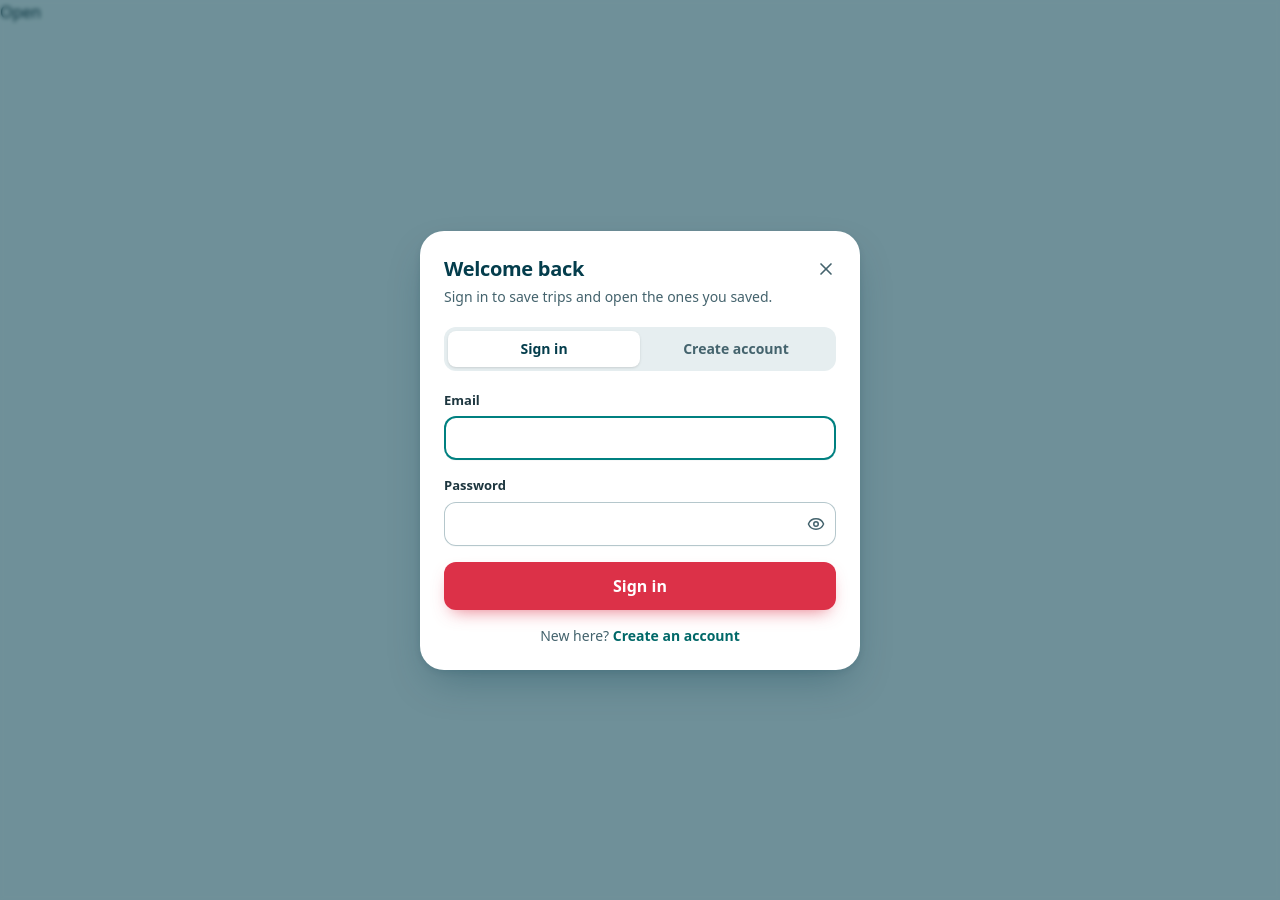
Scenario: AuthDialog › tabs › keeps what was typed and clears old errors when switching
Click the button with test id "btn-auth-submit" at {"x": 640, "y": 586}, box [444,562,836,610]
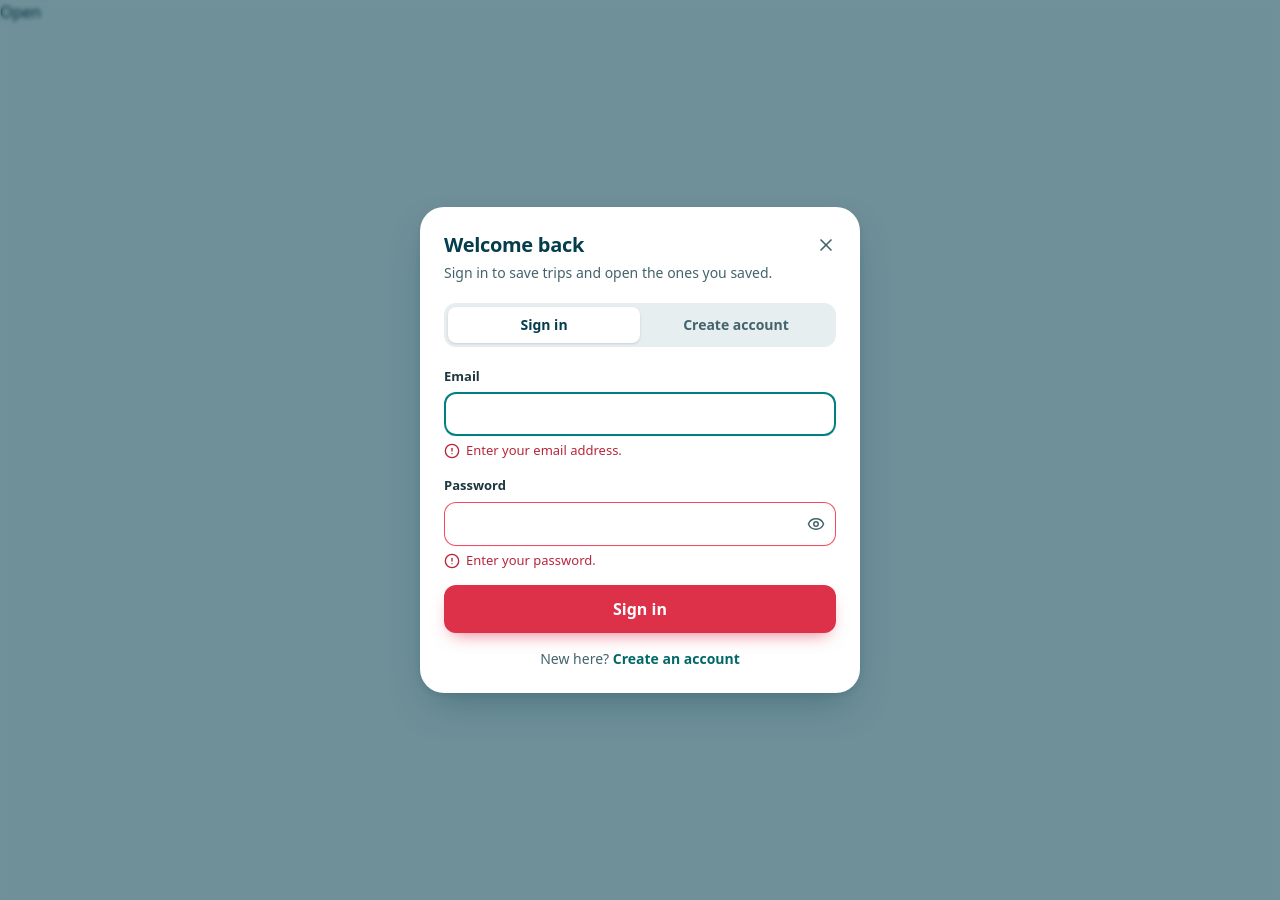
Expected: the text "Enter your email address." is shown, [466,442,622,460]
Type "dana@example.com" into the field with test id "input-auth-email" at {"x": 640, "y": 414}, box [444,392,836,436]
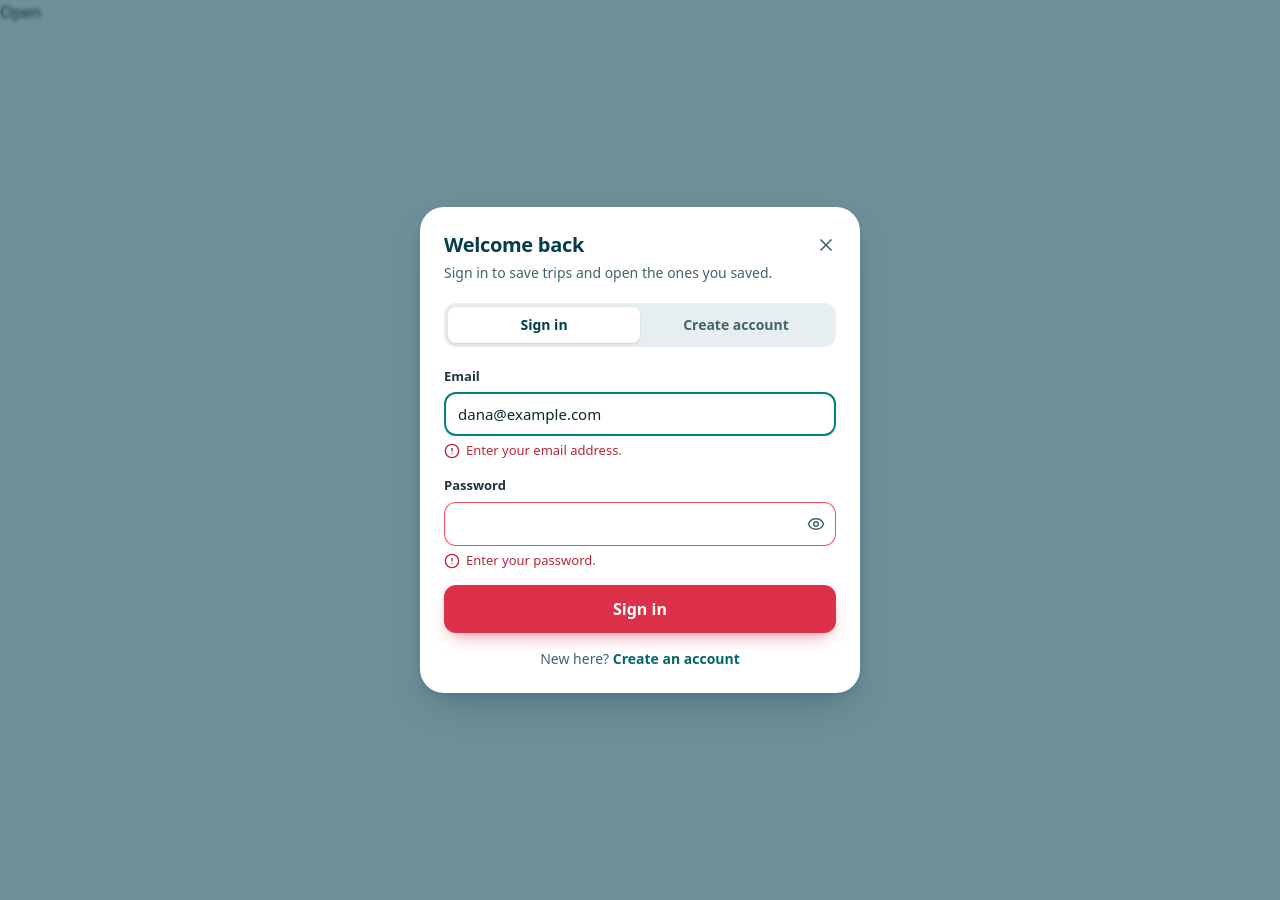
Click the tab with test id "tab-auth-register" at {"x": 736, "y": 325}, box [640,307,832,343]
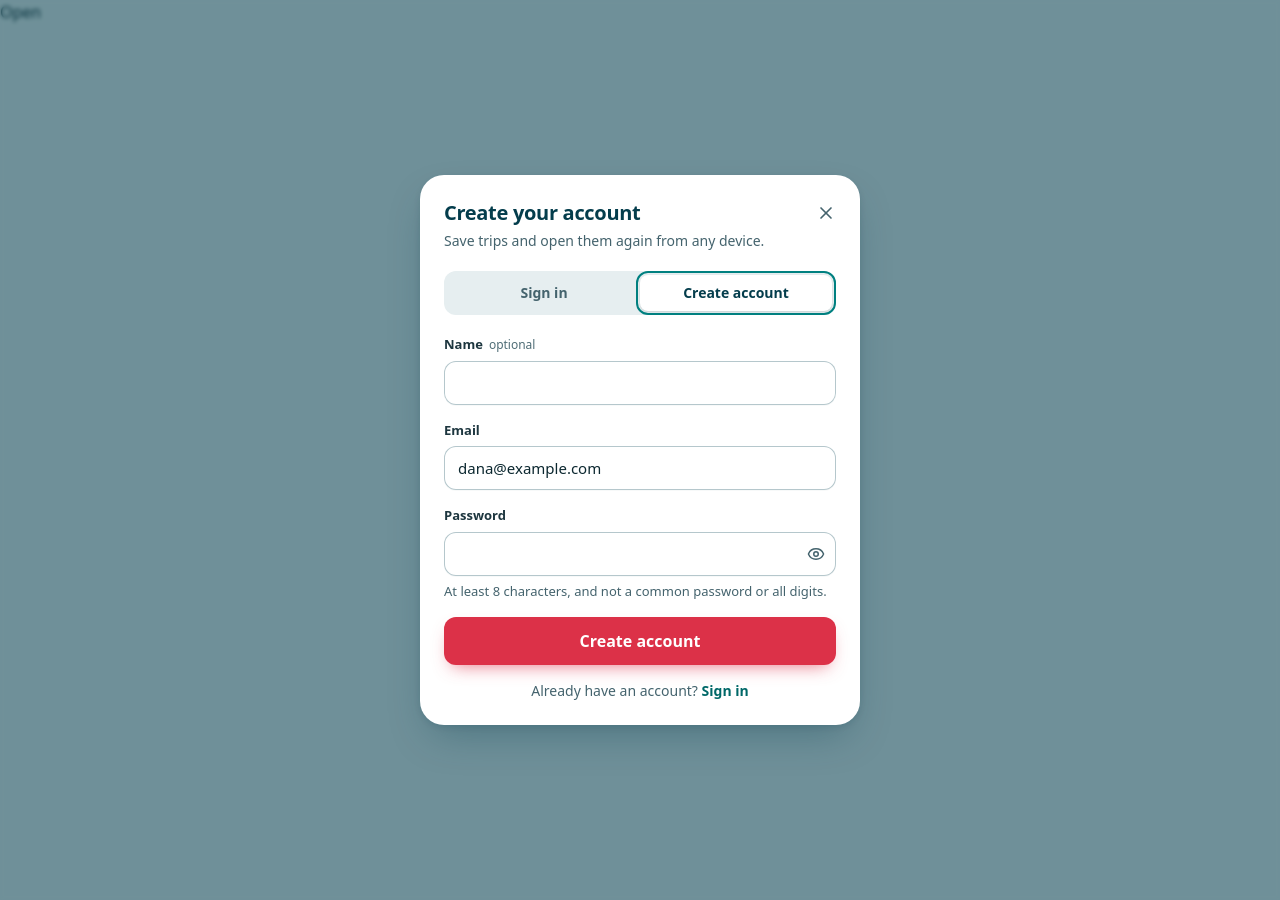
Expected: the text "Enter your email address." is gone
